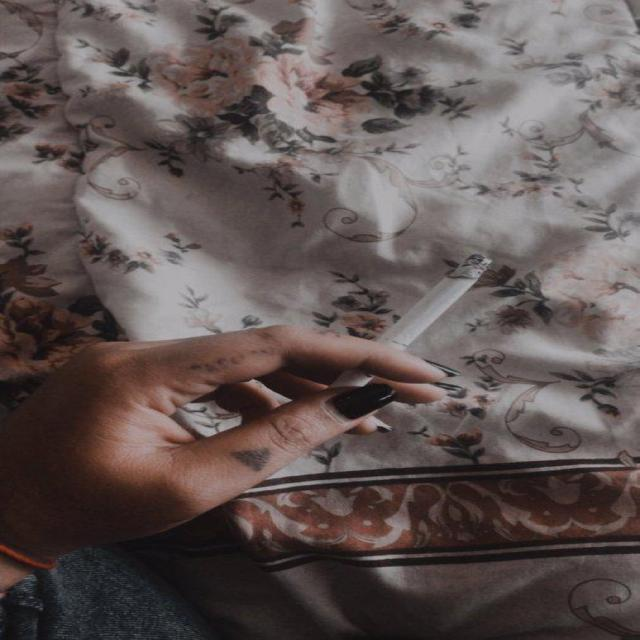rokok: (328, 248, 490, 400)
